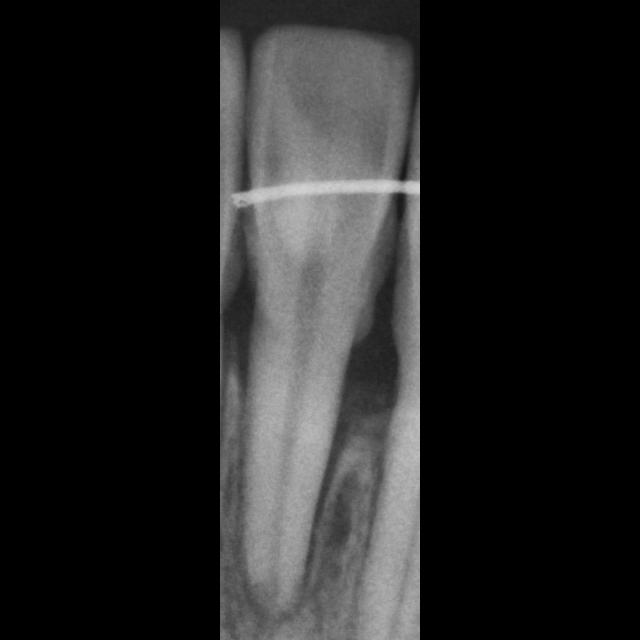tooth: (241, 23, 416, 615)
